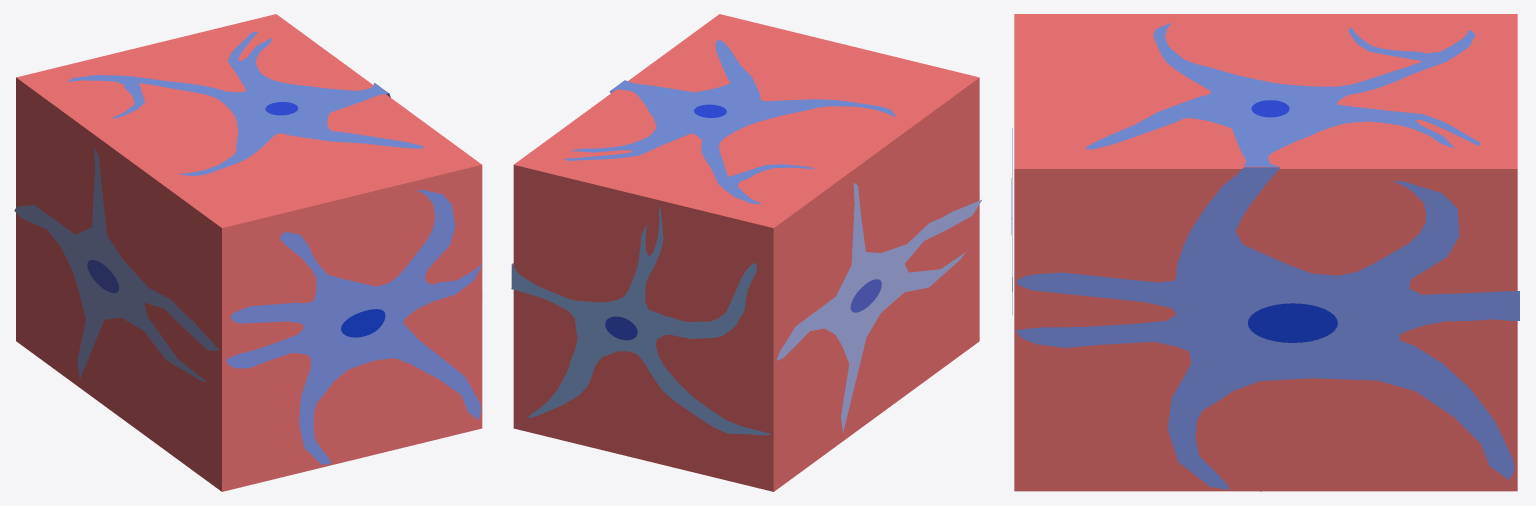
File: nervous 2.0.gltf
3 renders of one model, left to right at view 1: azimuth 30°, elevation 25°; view 2: azimuth 150°, elevation 25°; view 3: azimuth 270°, elevation 25°, orthographic. The views are drawn at different scales.
Parts seen in each view (by area): view 1: Cube; view 2: Cube; view 3: Cube.
Part boxes in pixels (left/top/right/bottom): Cube: left=14, top=14, right=482, bottom=491; Cube: left=511, top=14, right=981, bottom=491; Cube: left=1011, top=14, right=1519, bottom=491.
Size of the model in its own units: 3.34 by 3.23 by 4.55.
